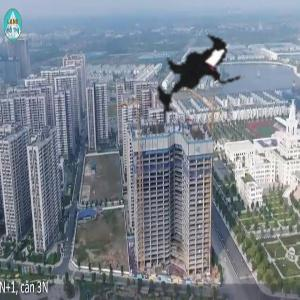drone: (125, 8, 272, 155)
